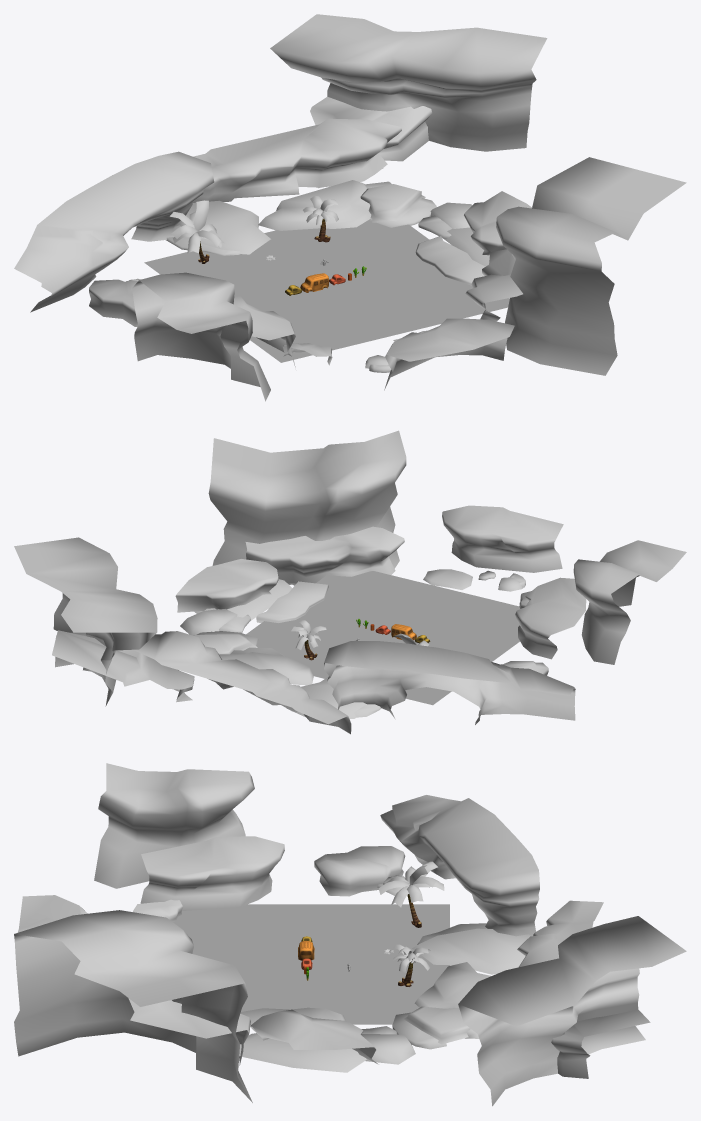
Rendered from shamo_scene.fbx.
3 renders of one model, top to bottom at view 1: azimuth 30°, elevation 25°; view 2: azimuth 150°, elevation 25°; view 3: azimuth 270°, elevation 25°, orthographic. The views are drawn at different scales.
Visible parts, largest first — view 1: stone_a33, dimian, stone_a7, stone_a31, stone_a2, stone_a19, stone_a29, stone_a38, stone_a32, stone_a34, stone_a5, stone_a30 (+9 smaller); view 2: stone_a7, dimian, stone_a31, stone_a33, stone_a19, stone_a29, stone_a2, stone_a5, stone_a32, stone_a30, stone_a3, stone_a13 (+7 smaller); view 3: stone_a7, dimian, stone_a33, stone_a19, stone_a31, stone_a3, stone_a34, stone_a30, stone_a36, stone_a12, stone_a2, stone_a32 (+10 smaller).
Part boxes in pixels (box(x1,y1,x2,y2)): stone_a33: box(270, 14, 547, 151); dimian: box(144, 219, 509, 362); stone_a7: box(496, 157, 686, 375); stone_a31: box(14, 151, 214, 312); stone_a2: box(112, 118, 401, 202); stone_a19: box(132, 272, 270, 401); stone_a29: box(384, 318, 514, 390); stone_a38: box(258, 180, 391, 230); stone_a32: box(310, 96, 432, 188); stone_a34: box(185, 200, 270, 254); stone_a5: box(465, 249, 522, 321); stone_a30: box(464, 191, 531, 255); stone_a7: box(208, 430, 406, 585); dimian: box(246, 571, 520, 705); stone_a31: box(324, 641, 575, 724); stone_a33: box(14, 537, 157, 706); stone_a19: box(573, 540, 686, 664); stone_a29: box(442, 505, 563, 572); stone_a2: box(134, 631, 351, 734); stone_a5: box(245, 526, 404, 583); stone_a32: box(52, 630, 194, 702); stone_a30: box(175, 559, 278, 612); stone_a3: box(515, 577, 586, 659); stone_a13: box(256, 581, 328, 622); stone_a7: box(14, 910, 252, 1102); dimian: box(173, 904, 449, 1024); stone_a33: box(458, 916, 686, 1106); stone_a19: box(94, 763, 254, 888); stone_a31: box(380, 795, 539, 936); stone_a3: box(140, 836, 284, 910); stone_a34: box(412, 928, 531, 974); stone_a30: box(251, 1009, 378, 1064); stone_a36: box(314, 846, 405, 896); stone_a12: box(239, 1033, 366, 1072); stone_a2: box(517, 900, 603, 967); stone_a32: box(551, 1009, 650, 1078).
Bounding box in the file's own units: 7283 × 1421 × 7094.
